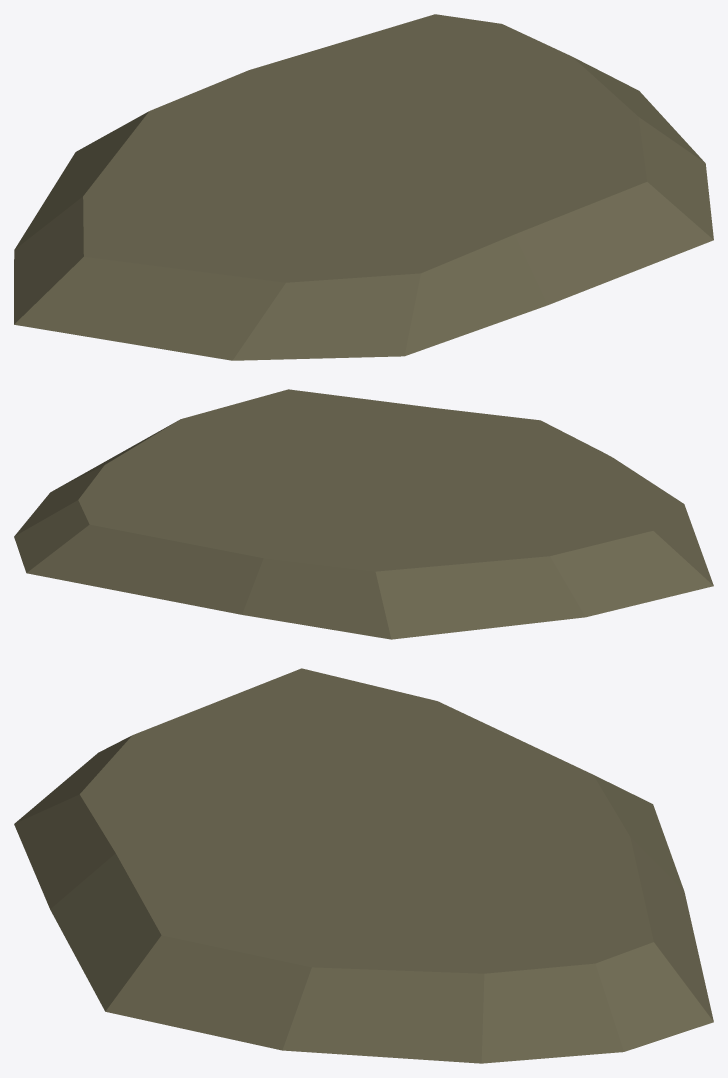
Rendered from stone_01.fbx.
3 renders of one model, top to bottom at view 1: azimuth 30°, elevation 25°; view 2: azimuth 150°, elevation 25°; view 3: azimuth 270°, elevation 25°, orthographic. The views are drawn at different scales.
Parts seen in each view (by area): view 1: Cube.033; view 2: Cube.033; view 3: Cube.033.
Boxes of the visible parts, x1=… form: Cube.033: x1=14, y1=14, x2=713, y2=360; Cube.033: x1=14, y1=389, x2=713, y2=639; Cube.033: x1=14, y1=668, x2=713, y2=1063.
Size of the model in its own units: 255 by 17.11 by 199.
